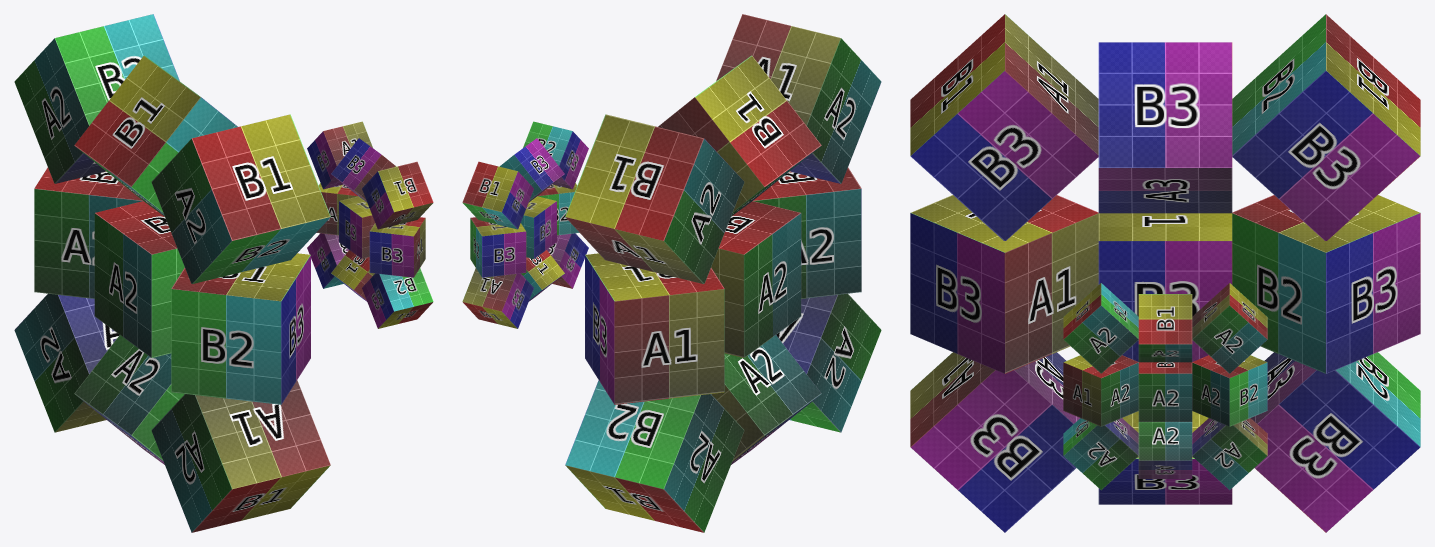
File: Cubes.glb
The picture shows the model from 3 angles, left to right: view 1: azimuth 30°, elevation 25°; view 2: azimuth 150°, elevation 25°; view 3: azimuth 270°, elevation 25°; orthographic projection. The views are drawn at different scales.
Parts seen in each view (by area): view 1: Cube.013, Cube.016, Cube.010, Cube.014, Cube.012, Cube.009, Cube.017, Cube.011, Cube.015, Cube.005, Cube.008, Cube.002 (+6 smaller); view 2: Cube.014, Cube.017, Cube.011, Cube.013, Cube.012, Cube.009, Cube.016, Cube.010, Cube.015, Cube.004, Cube.007, Cube.001 (+6 smaller); view 3: Cube.013, Cube.014, Cube.010, Cube.011, Cube.012, Cube.016, Cube.017, Cube.009, Cube.001, Cube.002, Cube.004, Cube.005 (+6 smaller).
Boxes of the visible parts, x1,y1,x2,y2 form: Cube.013: [151, 114, 330, 283]; Cube.016: [151, 380, 330, 532]; Cube.010: [171, 253, 310, 404]; Cube.014: [14, 14, 179, 183]; Cube.012: [74, 55, 237, 216]; Cube.009: [94, 201, 184, 357]; Cube.017: [14, 293, 119, 432]; Cube.011: [34, 167, 142, 298]; Cube.015: [74, 335, 184, 464]; Cube.005: [362, 161, 433, 229]; Cube.008: [362, 268, 433, 328]; Cube.002: [369, 217, 425, 277]; Cube.014: [565, 114, 744, 283]; Cube.017: [565, 380, 744, 532]; Cube.011: [585, 253, 724, 404]; Cube.013: [716, 14, 881, 183]; Cube.012: [658, 55, 821, 216]; Cube.009: [711, 201, 801, 357]; Cube.016: [776, 293, 881, 432]; Cube.010: [753, 167, 861, 298]; Cube.015: [711, 335, 821, 464]; Cube.004: [462, 161, 533, 229]; Cube.007: [462, 268, 533, 328]; Cube.001: [470, 217, 526, 277]; Cube.013: [910, 14, 1098, 240]; Cube.014: [1232, 14, 1420, 240]; Cube.010: [910, 195, 1098, 373]; Cube.011: [1232, 195, 1420, 373]; Cube.012: [1098, 42, 1232, 213]; Cube.016: [910, 352, 1079, 532]; Cube.017: [1251, 352, 1420, 532]; Cube.009: [1098, 213, 1232, 361]; Cube.001: [1192, 355, 1267, 426]; Cube.002: [1063, 355, 1138, 426]; Cube.004: [1192, 283, 1267, 373]; Cube.005: [1063, 283, 1138, 373].
Size of the model in its own units: 3.74 by 4.77 by 4.77.
1 material, 1 textured.
